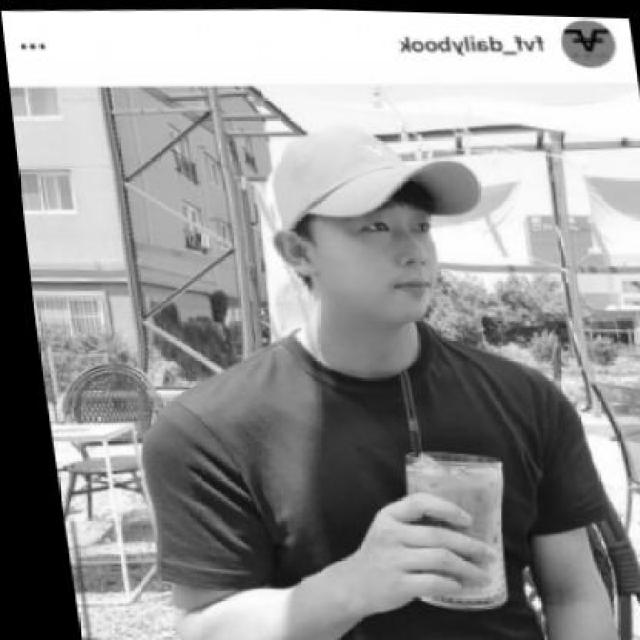hat: (240, 114, 485, 231)
